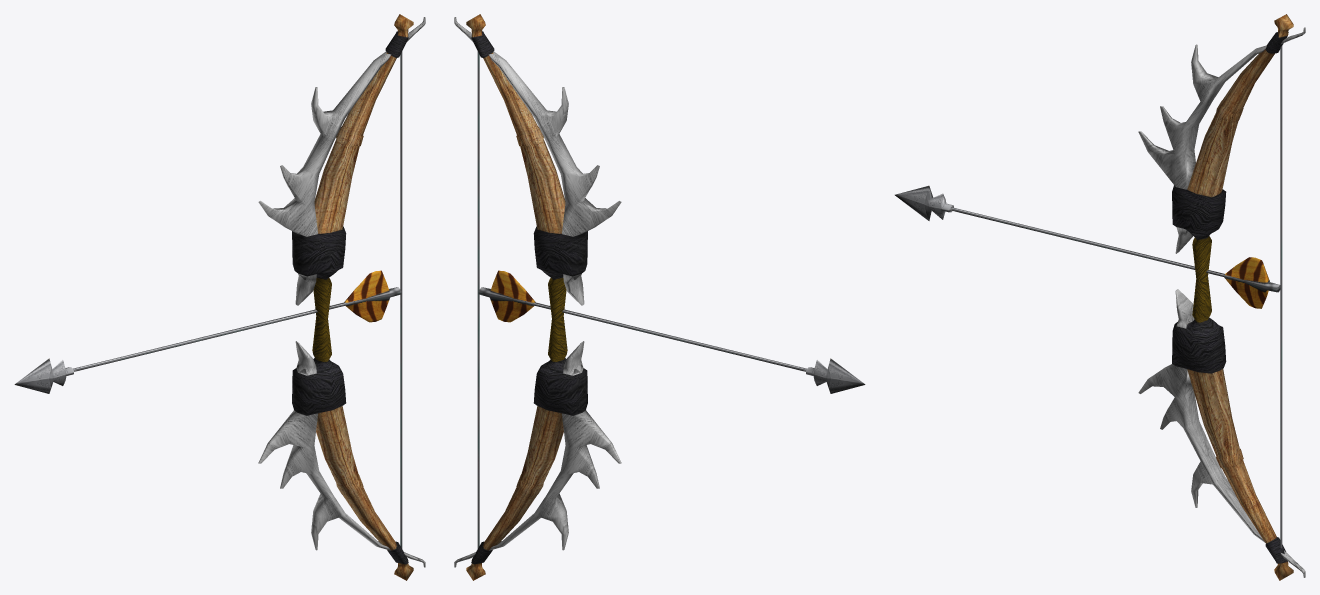
The model's file is Bow01.fbx.
3 renders of one model, left to right at view 1: azimuth 30°, elevation 25°; view 2: azimuth 150°, elevation 25°; view 3: azimuth 330°, elevation 25°, orthographic.
Parts seen in each view (by area): view 1: polySurface11, polySurface13, polySurface7; view 2: polySurface11, polySurface13, polySurface7; view 3: polySurface11, polySurface13, polySurface7.
Boxes of the visible parts, bbox=[...] form: polySurface11: bbox=[258, 14, 425, 580]; polySurface13: bbox=[14, 270, 401, 393]; polySurface7: bbox=[400, 51, 402, 548]; polySurface11: bbox=[454, 14, 621, 580]; polySurface13: bbox=[478, 270, 865, 393]; polySurface7: bbox=[477, 51, 479, 548]; polySurface11: bbox=[1138, 14, 1305, 580]; polySurface13: bbox=[895, 185, 1280, 308]; polySurface7: bbox=[1280, 46, 1282, 548].
Bounding box in the file's own units: 4.04 × 5.28 × 0.364.
